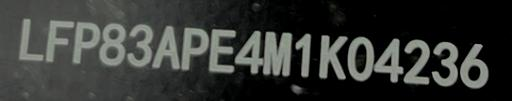letter: (430, 38, 464, 85), (232, 29, 266, 74), (462, 40, 494, 87), (179, 25, 211, 70), (206, 28, 238, 73), (263, 30, 295, 75), (316, 33, 348, 78), (372, 37, 404, 80), (346, 35, 376, 80), (404, 39, 434, 84), (17, 16, 45, 63), (45, 19, 75, 62), (126, 24, 156, 67), (98, 21, 126, 66), (152, 25, 180, 70), (72, 20, 100, 63), (293, 31, 317, 76)
